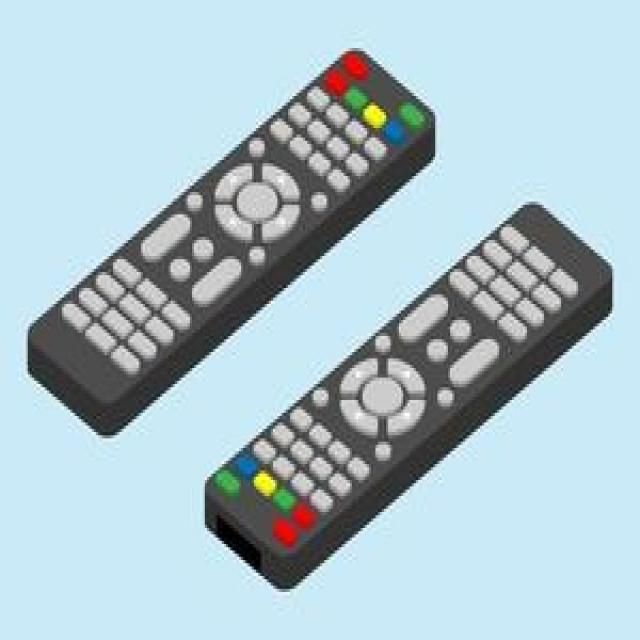remote: (28, 50, 437, 435), (212, 205, 610, 585)
